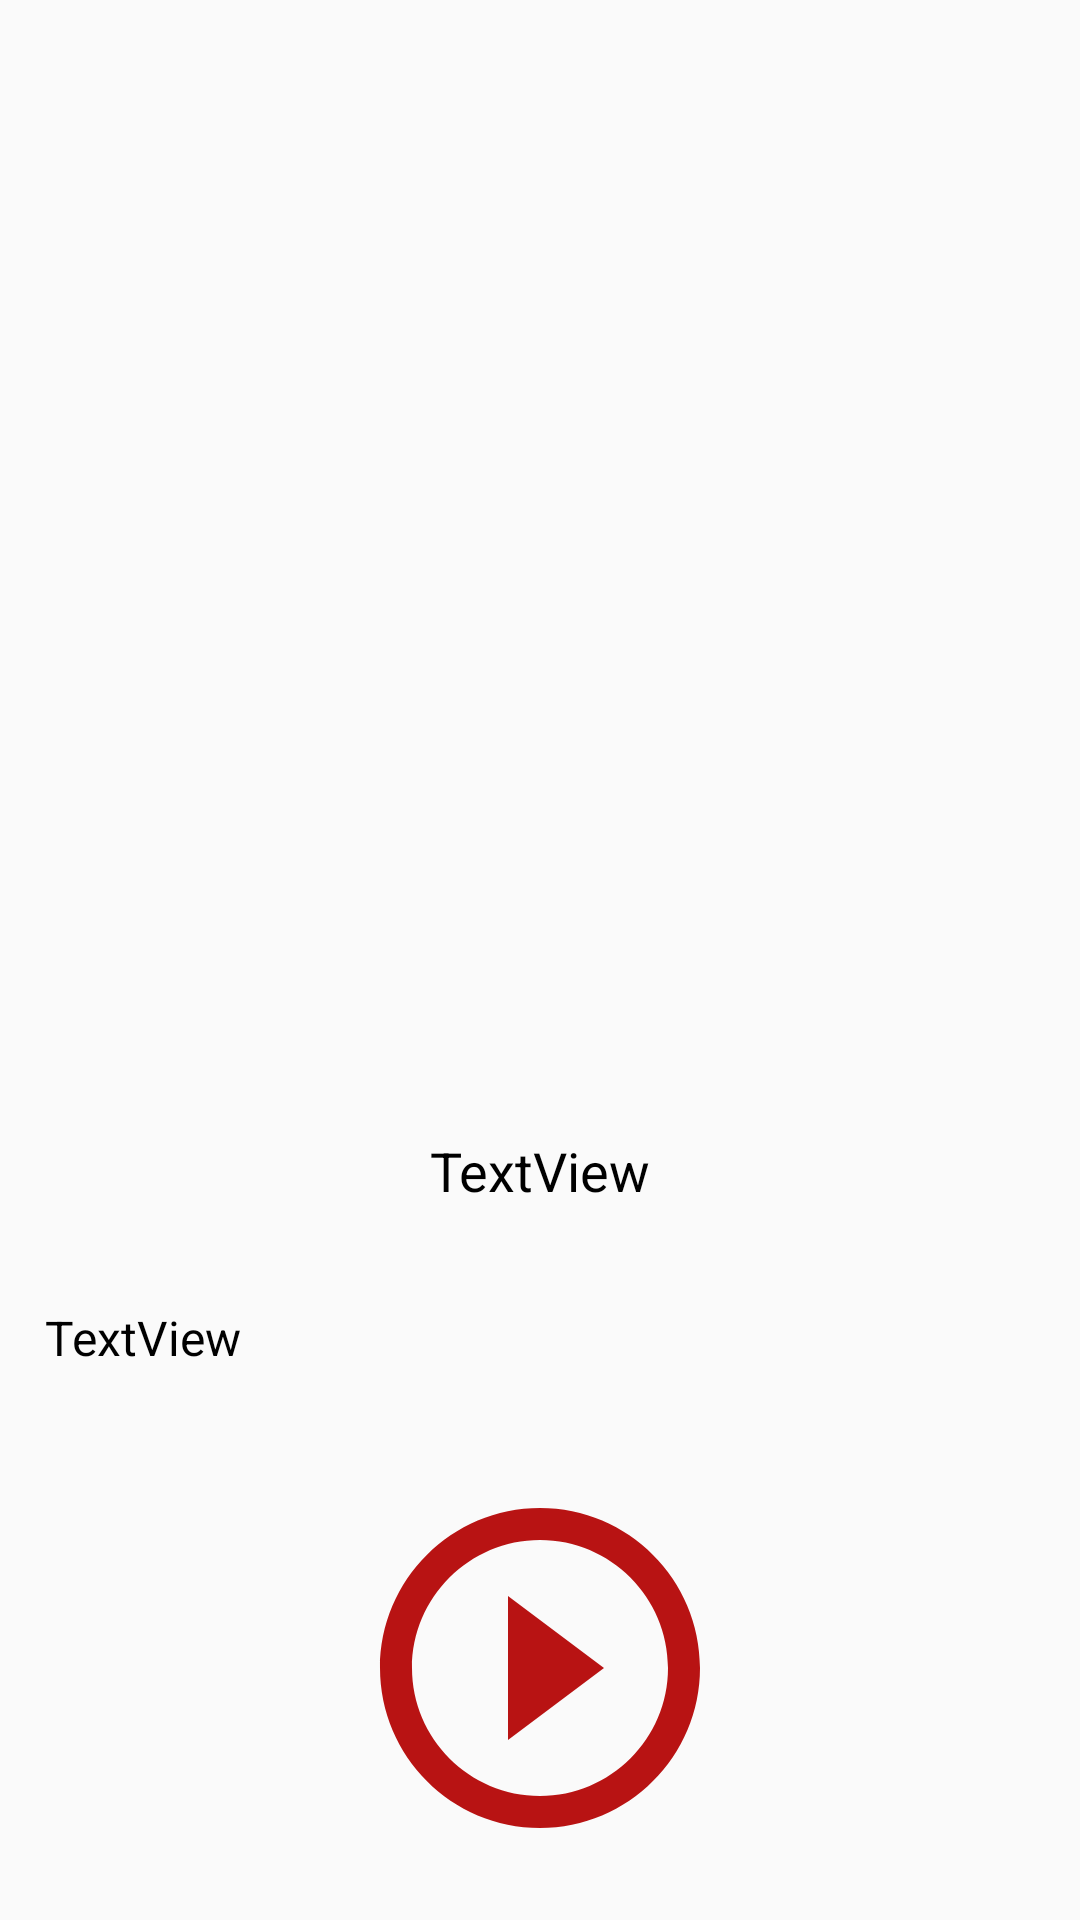

Screen size 1080×1920. Icon name, then its center in pixels as (x=x, y=y):
play circle: (x=540, y=1668)
